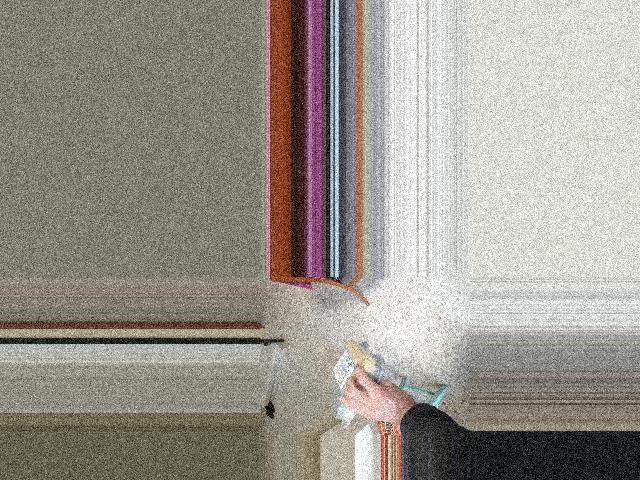cheese: (332, 333, 372, 422)
